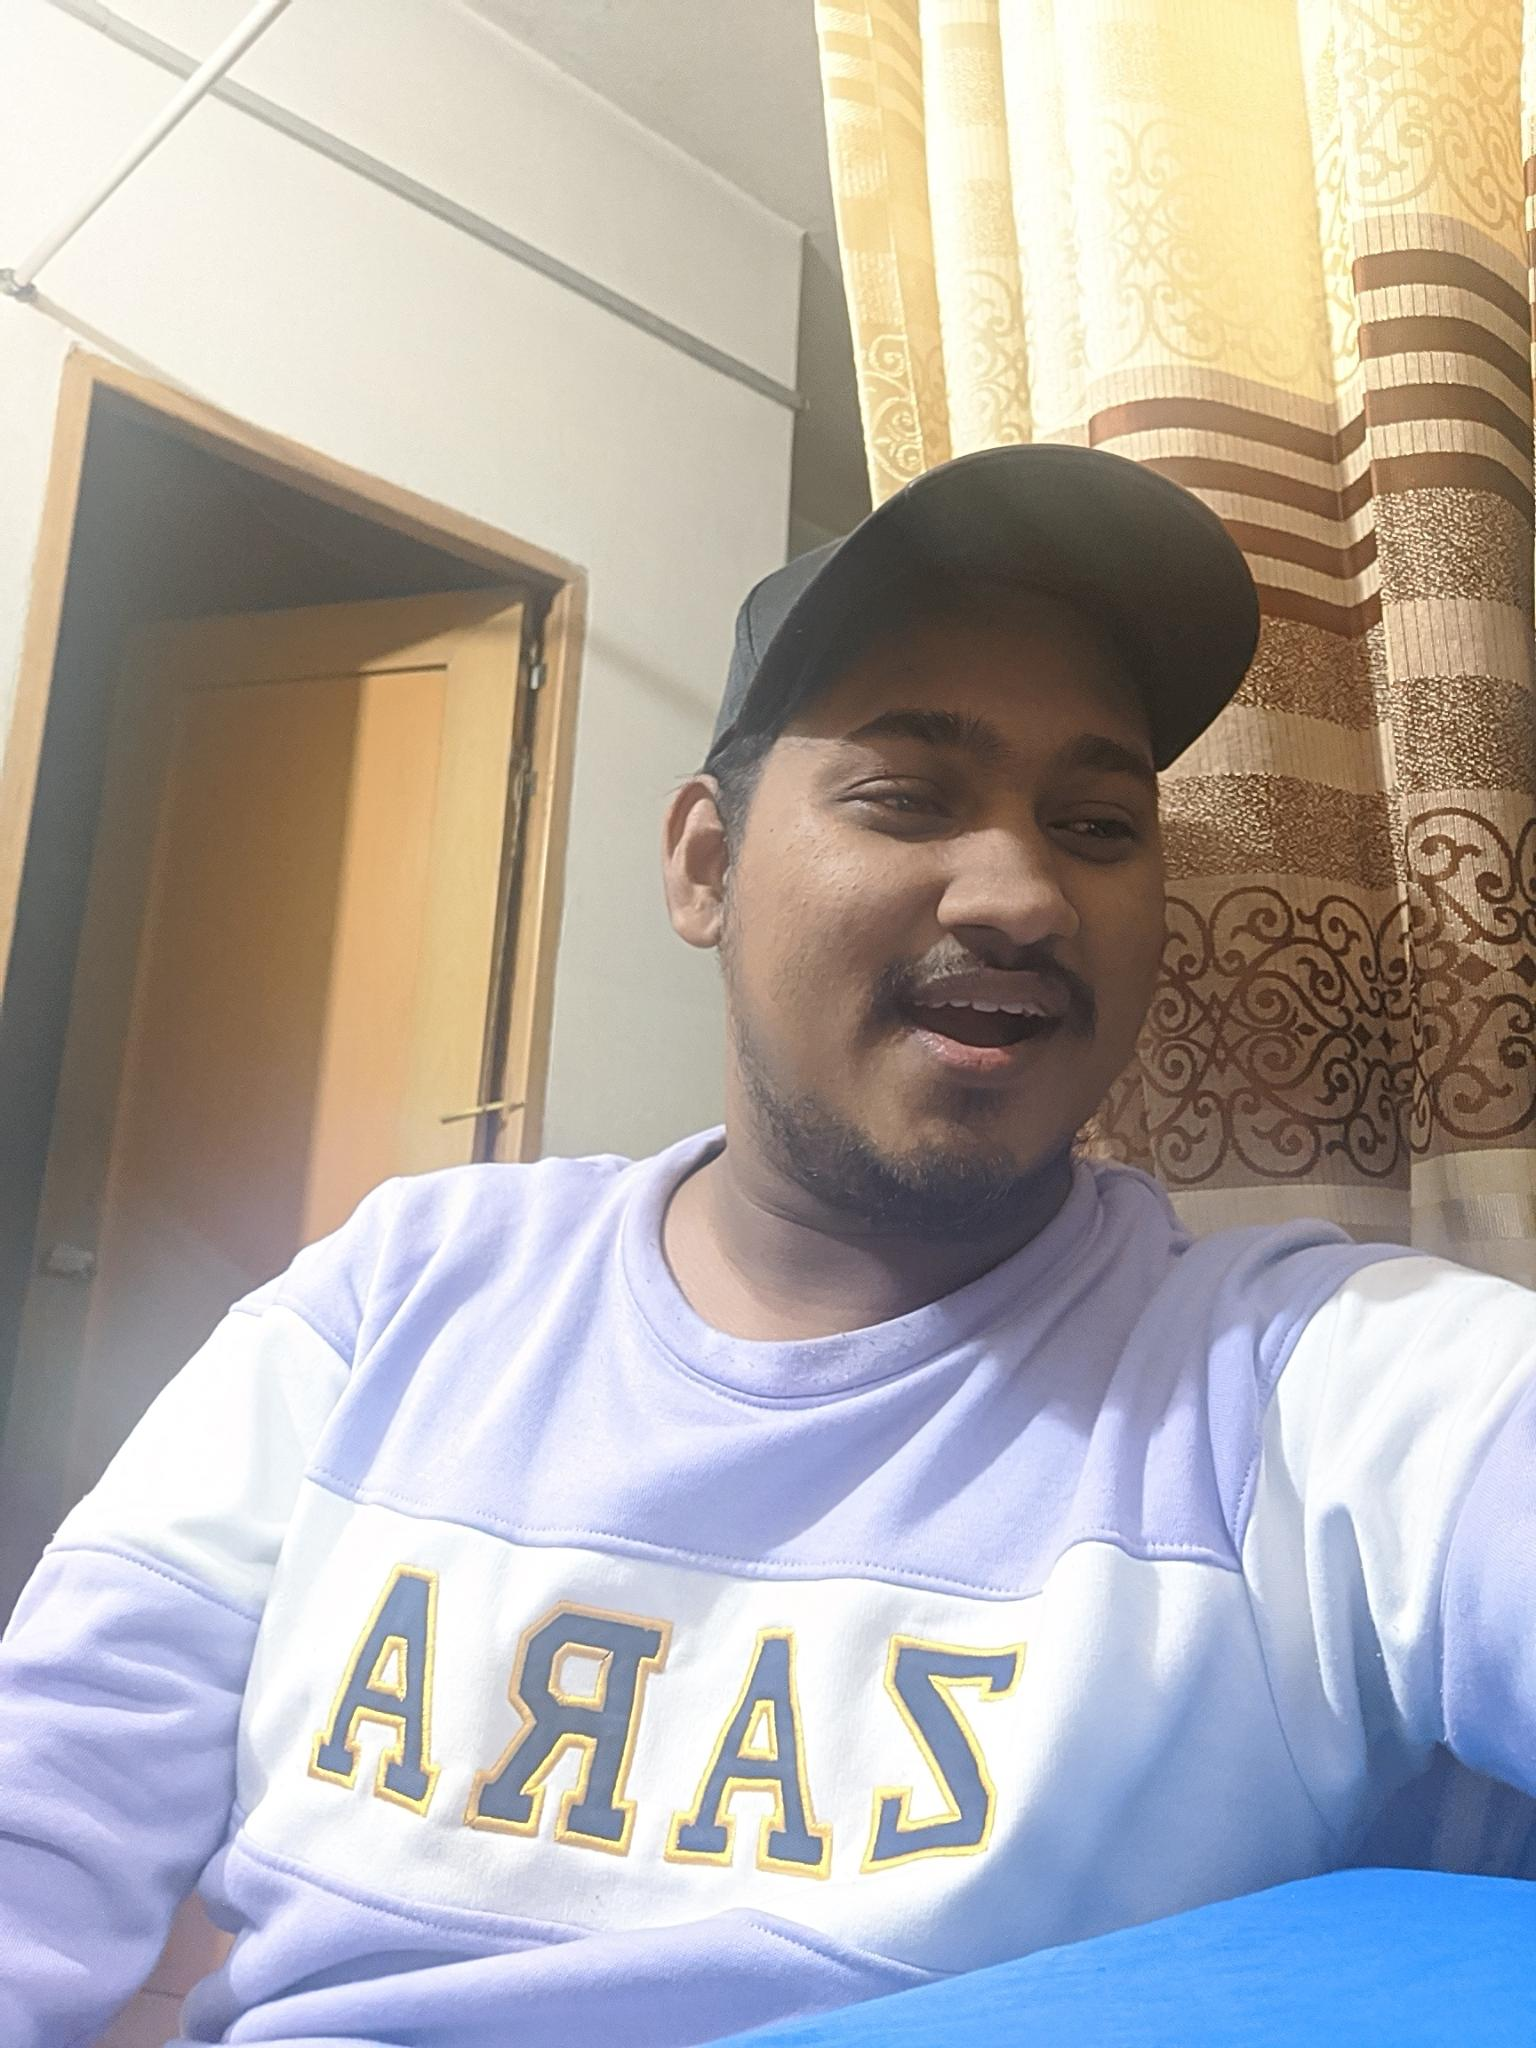Surprise: (762, 658, 1183, 1166)
